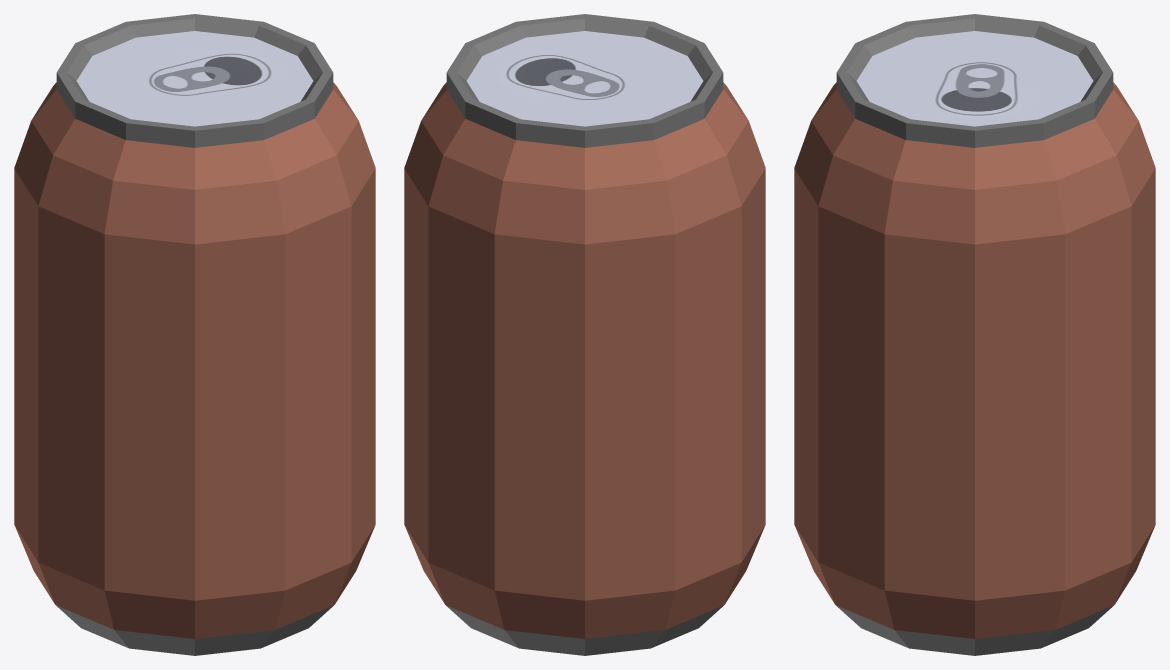
File: bobbin2.glb
The picture shows the model from 3 angles, left to right: view 1: azimuth 30°, elevation 25°; view 2: azimuth 150°, elevation 25°; view 3: azimuth 270°, elevation 25°; orthographic projection.
Parts seen in each view (by area): view 1: SM_yilaguan_yecan_brown_0; view 2: SM_yilaguan_yecan_brown_0; view 3: SM_yilaguan_yecan_brown_0.
Boxes of the visible parts, x1,y1,x2,y2 form: SM_yilaguan_yecan_brown_0: (14,14,375,655); SM_yilaguan_yecan_brown_0: (404,14,765,655); SM_yilaguan_yecan_brown_0: (794,14,1155,655).
Bounding box in the file's own units: 38.77 × 62.46 × 38.77.
Materials: 3 (3 with a texture image).
